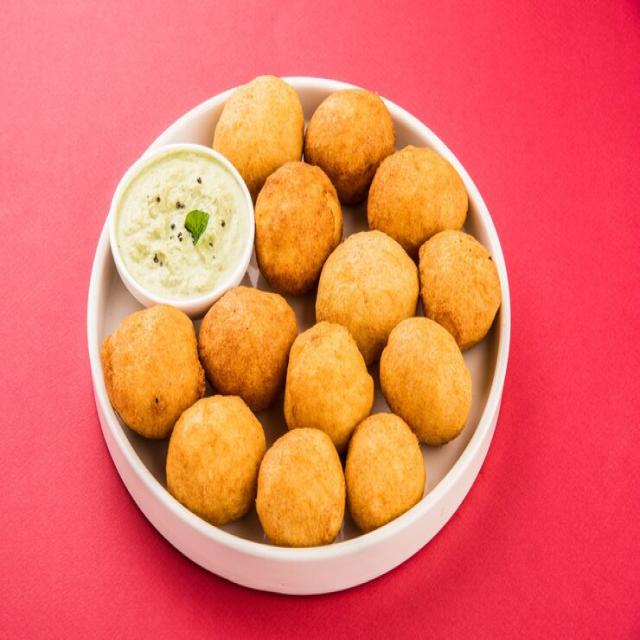BONDA: (102, 76, 500, 544)
WHITE CHUTNEY: (110, 145, 253, 306)
